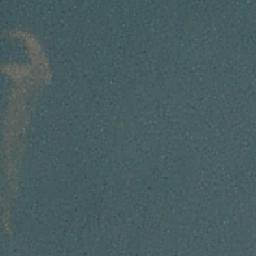debris: (1, 60, 52, 79), (2, 101, 31, 130), (1, 131, 25, 160), (23, 34, 45, 60), (10, 79, 37, 100)
